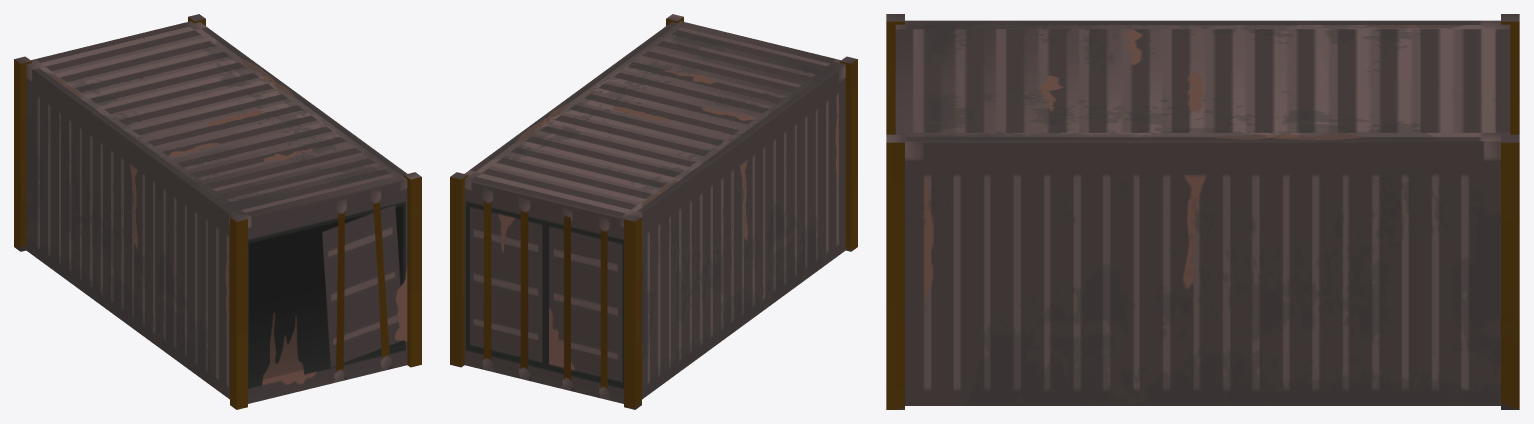
The model's file is Building_AncientMediumContainer__C.glb.
The picture shows the model from 3 angles, left to right: view 1: azimuth 30°, elevation 25°; view 2: azimuth 150°, elevation 25°; view 3: azimuth 270°, elevation 25°; orthographic projection. The views are drawn at different scales.
Visible parts, largest first — view 1: AncientMediumContainer; view 2: AncientMediumContainer; view 3: AncientMediumContainer.
Boxes of the visible parts, box(x1,y1,x2,y2) form: AncientMediumContainer: box(14, 14, 421, 409); AncientMediumContainer: box(450, 14, 857, 409); AncientMediumContainer: box(886, 14, 1519, 409).
Bounding box in the file's own units: 1.98 × 1.92 × 4.12.
Materials: 1 (1 with a texture image).
